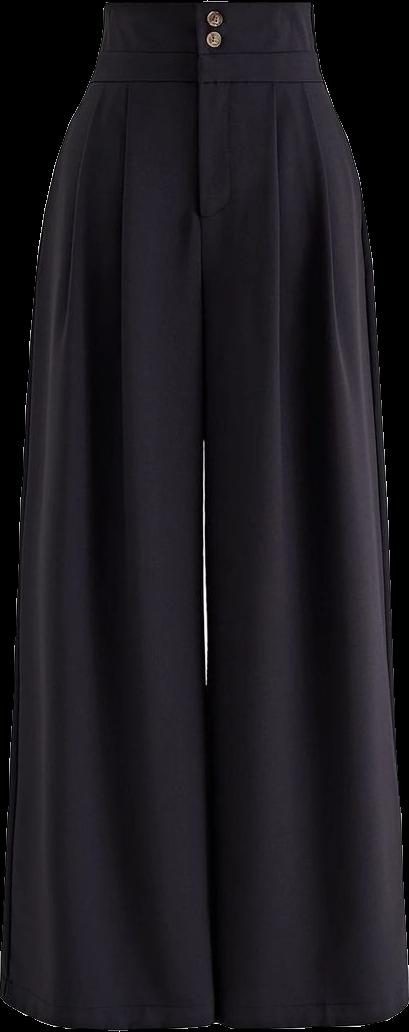Hemline: (0, 982, 212, 1031), (204, 994, 408, 1030)
Pantleg: (0, 0, 207, 1030), (201, 0, 408, 1029)
Waistline: (87, 71, 326, 94), (98, 40, 315, 61), (103, 0, 314, 13)
